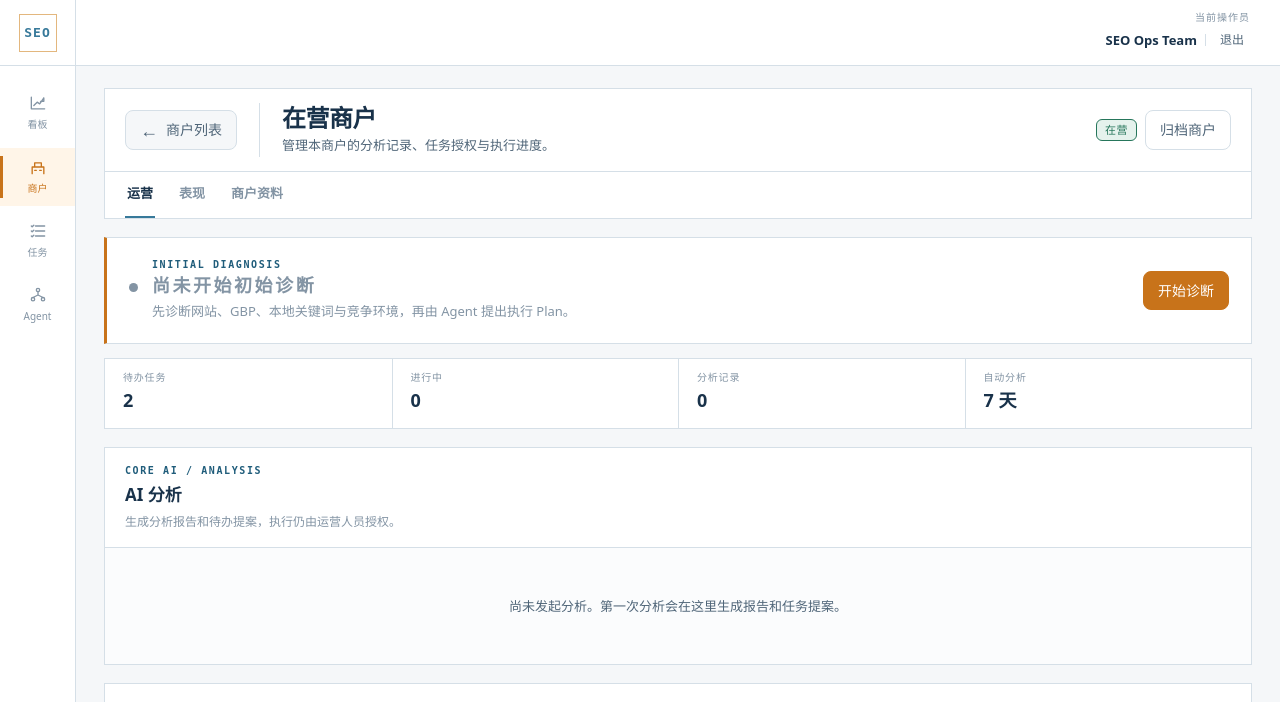
Test: merchant lifecycle › preserves pending work and history when archiving an idle merchant
Click the button "归档商户".
click(1188, 130)  # box [1145, 110, 1231, 150]
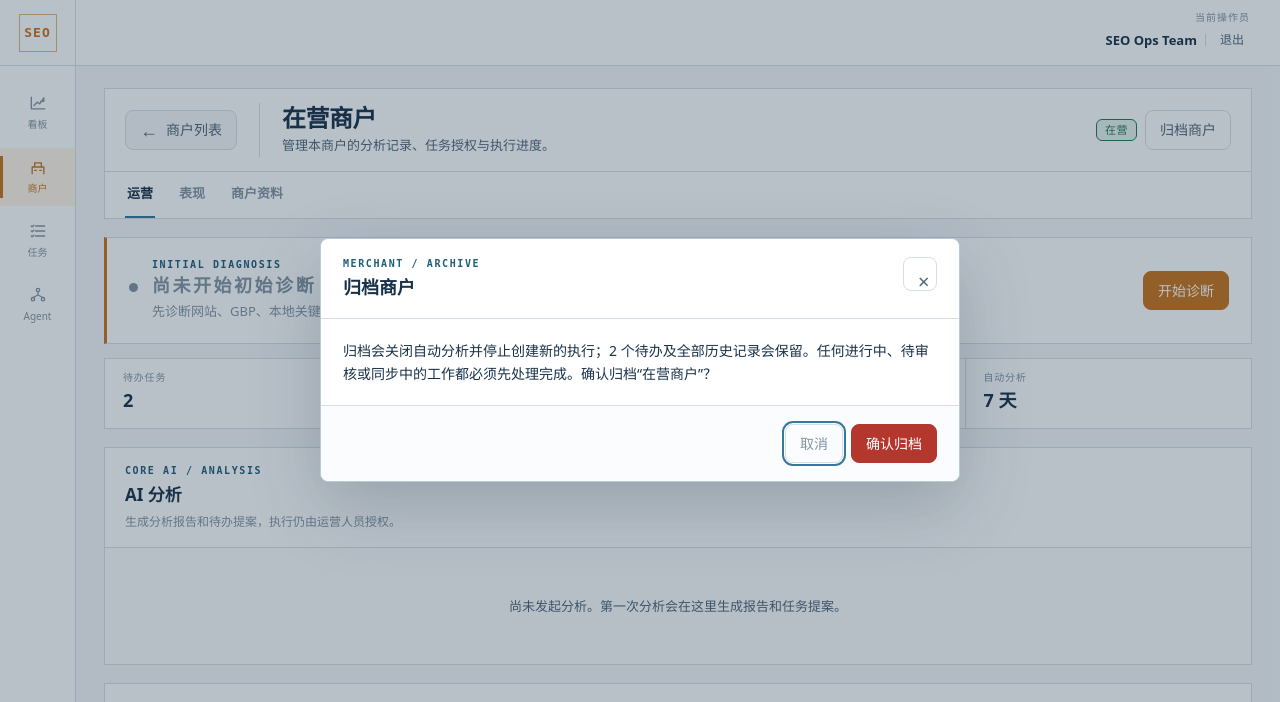
expect the text "归档会关闭自动分析并停止创建新的执行；2 个待办及全部历史记录会保留。任何进行中、待审核或同步中的工作都必须先处理完成。确认归档“在营商户”？" is shown: met, box [343, 338, 937, 385]
Click the button "确认归档".
click(894, 443)  # box [851, 424, 937, 463]
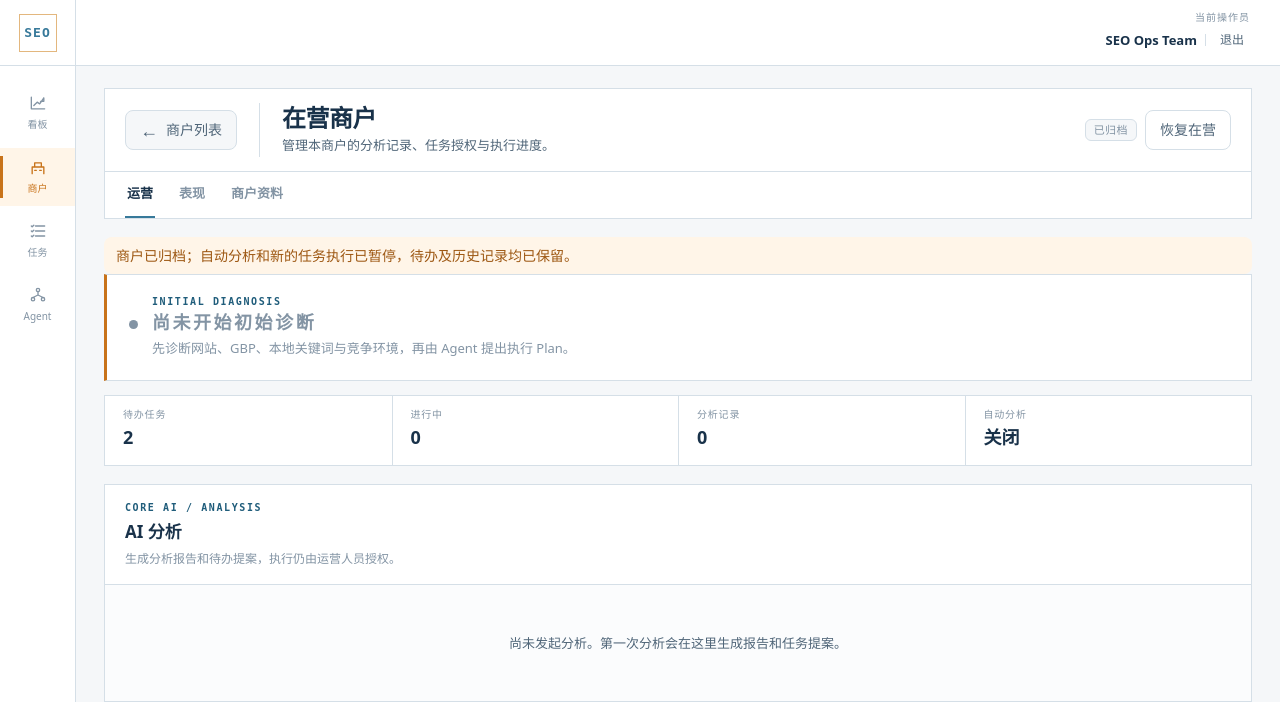
expect the text "商户已归档；自动分析和新的任务执行已暂停，待办及历史记录均已保留。" is shown: met, box [116, 246, 578, 265]
